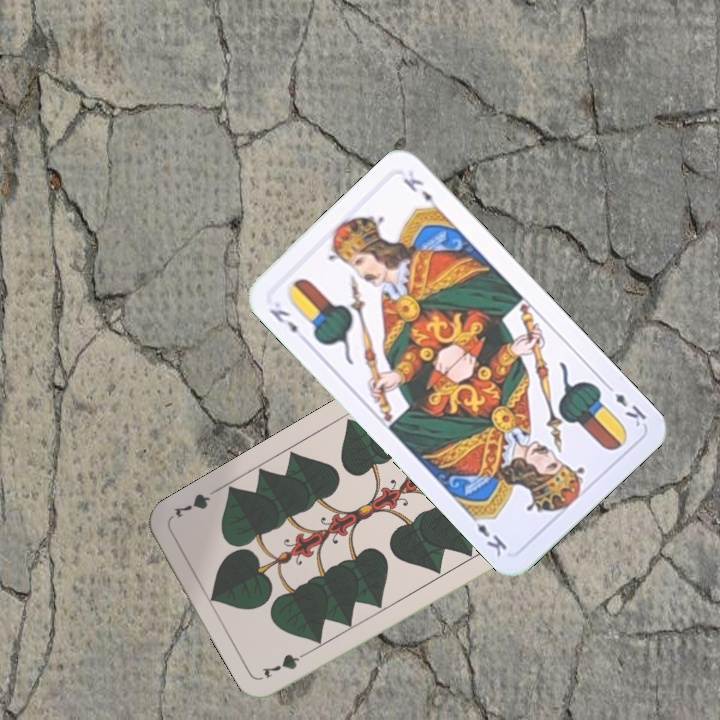EK: (601, 379, 649, 430), (265, 304, 301, 336)
G7: (258, 645, 315, 681)
